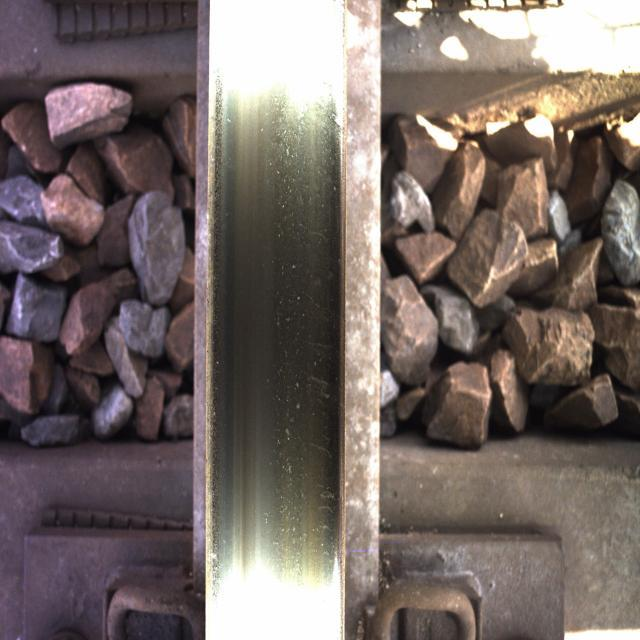normal: (221, 46, 335, 580)
